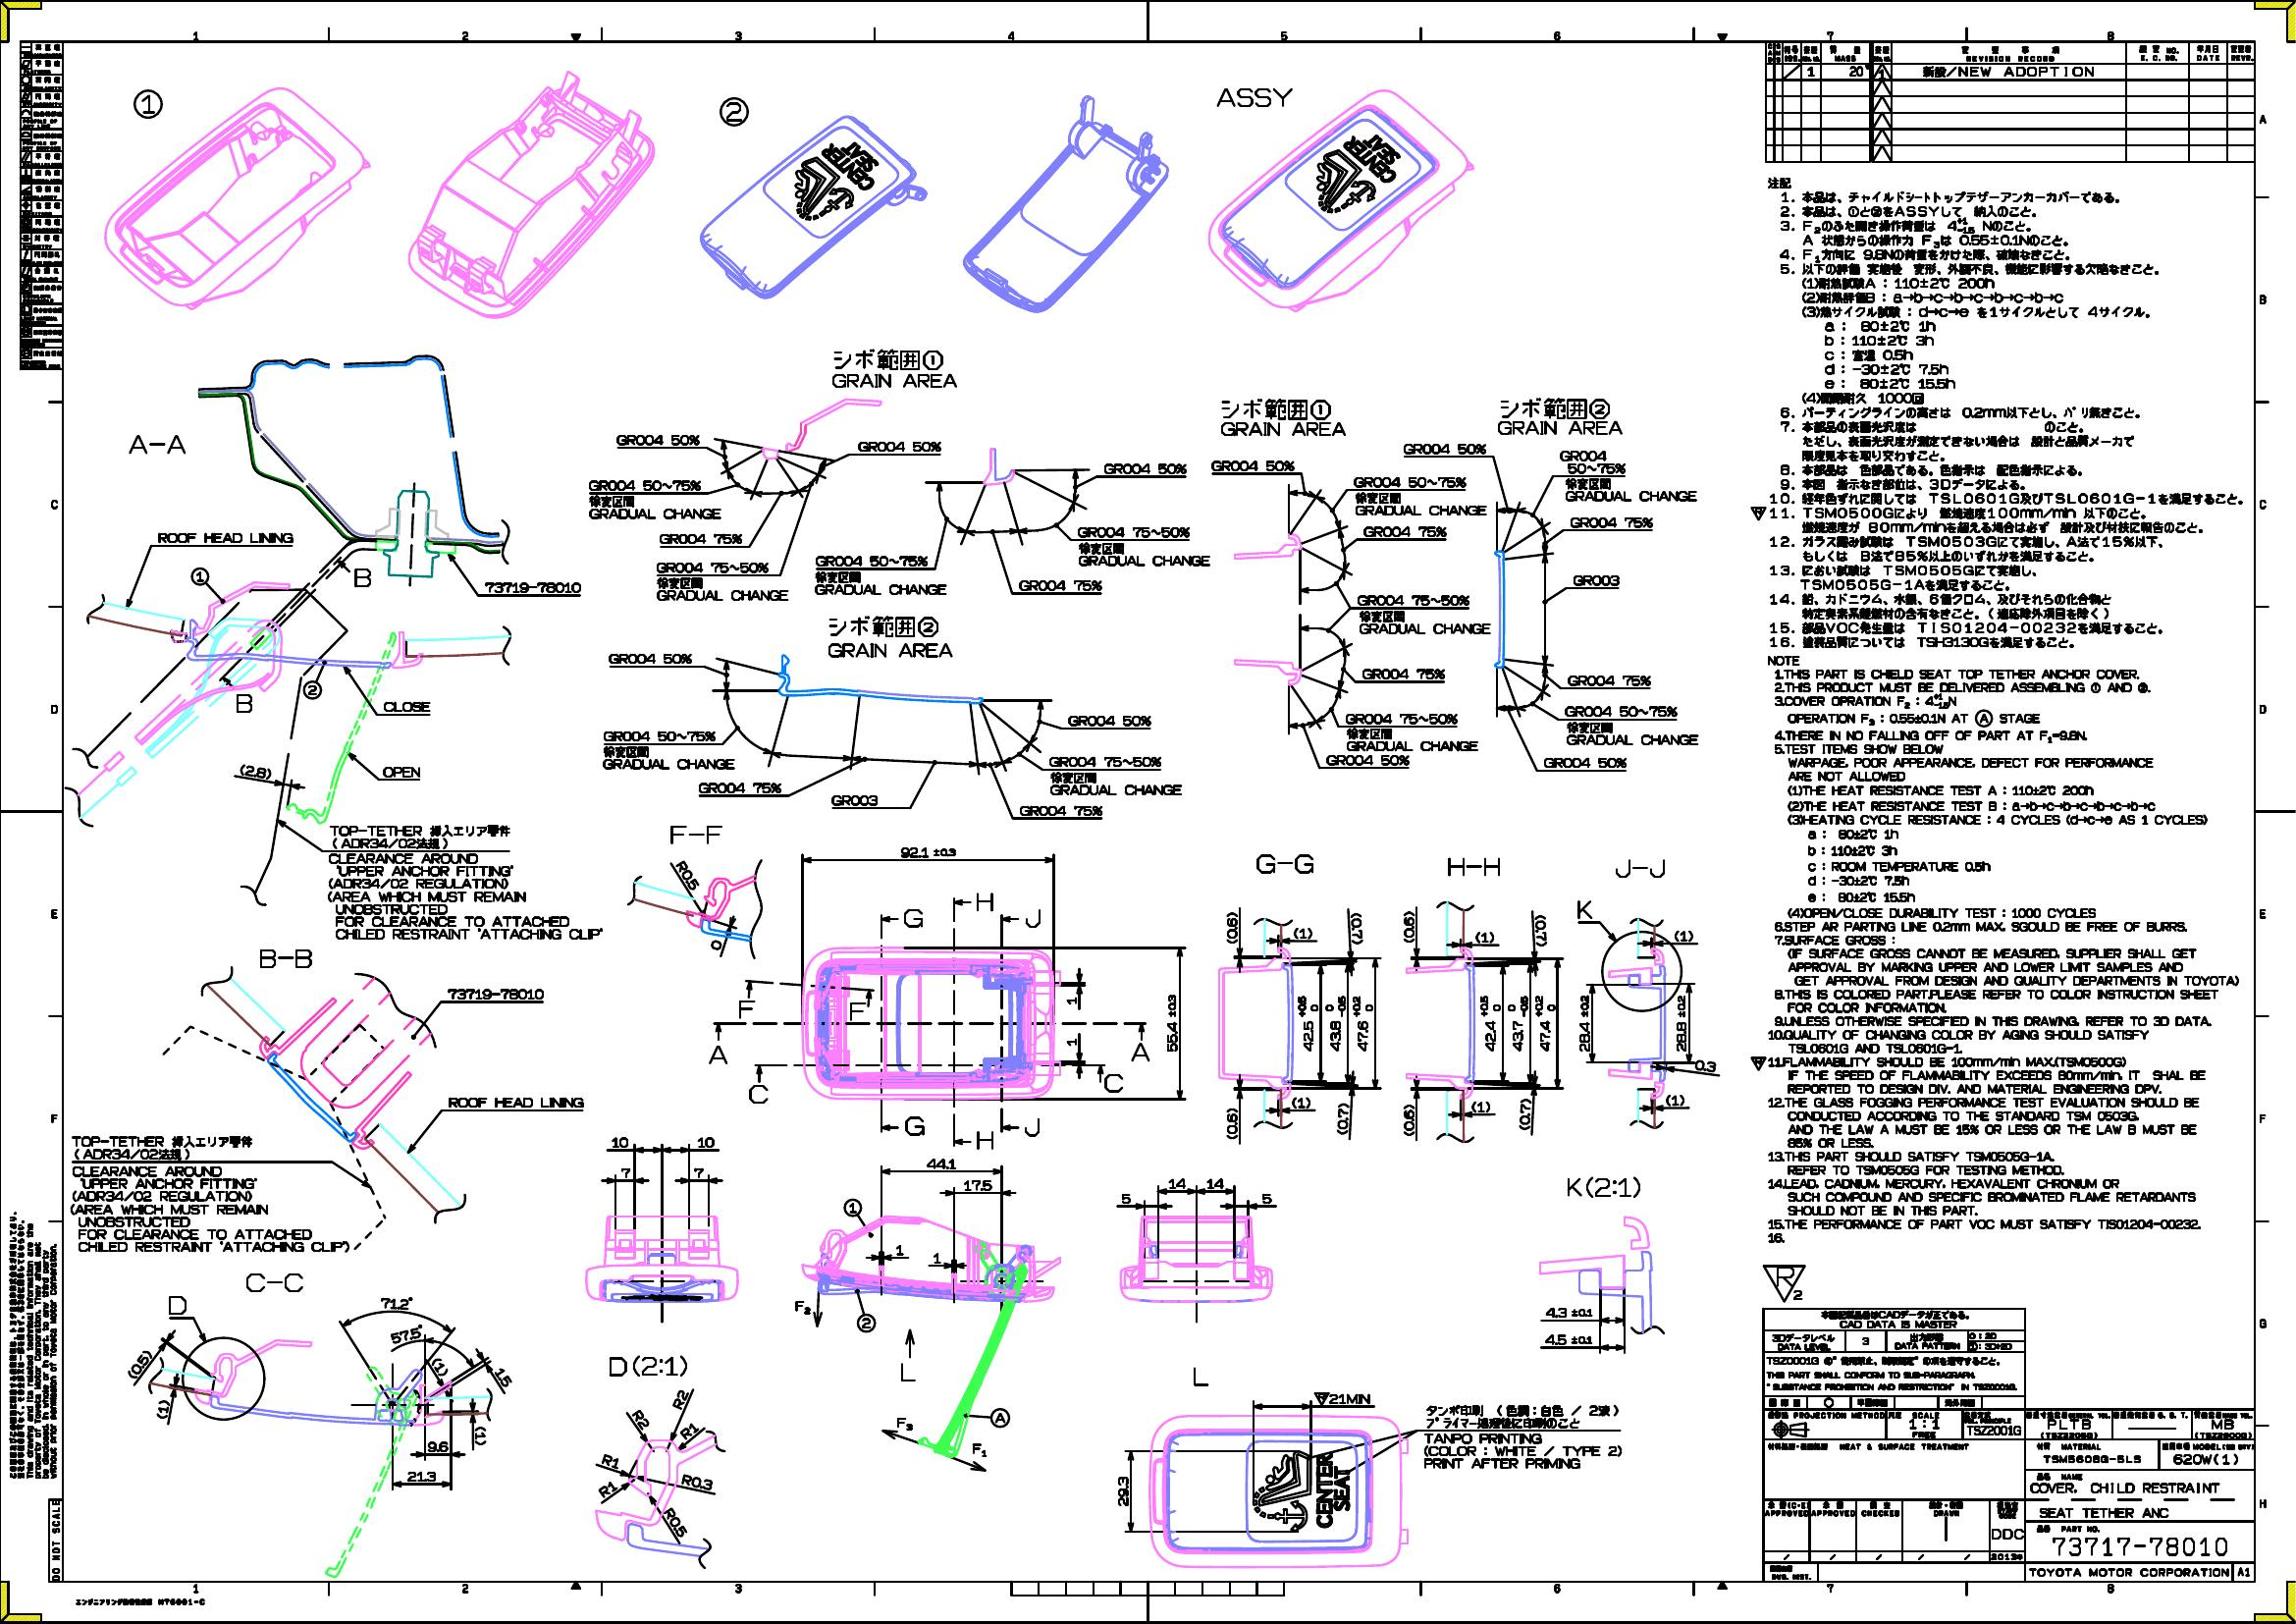anntotation_text: (1750, 176, 2247, 1304), (327, 823, 603, 942), (70, 1135, 350, 1253), (7, 1209, 58, 1480), (1423, 1404, 1621, 1469), (1558, 448, 1699, 504), (1351, 475, 1488, 517), (813, 554, 947, 596), (1356, 594, 1493, 634), (1077, 526, 1212, 566), (1563, 705, 1699, 745), (1497, 395, 1625, 438), (826, 615, 954, 657), (655, 561, 789, 601), (588, 480, 722, 520), (1049, 756, 1182, 796), (603, 729, 736, 770), (1344, 712, 1481, 750), (1219, 397, 1347, 438), (831, 348, 957, 388), (1565, 1176, 1641, 1199), (156, 531, 293, 543), (608, 1355, 687, 1376), (1216, 88, 1291, 107), (448, 1097, 583, 1107), (1256, 852, 1314, 874), (1209, 459, 1295, 473), (446, 988, 545, 1000), (1569, 515, 1653, 529), (128, 434, 186, 453), (246, 1272, 304, 1292), (669, 824, 722, 845), (1361, 526, 1449, 538), (1614, 858, 1665, 879), (1325, 754, 1411, 766), (1446, 856, 1500, 875), (1361, 668, 1446, 680), (615, 434, 699, 446), (1103, 462, 1188, 475), (1402, 443, 1486, 455), (1567, 673, 1651, 685), (608, 652, 692, 664), (483, 582, 581, 592), (260, 949, 313, 968), (132, 88, 163, 118), (1066, 715, 1152, 726), (718, 97, 748, 127), (857, 441, 942, 452), (1017, 580, 1101, 591), (1542, 758, 1627, 768), (1019, 805, 1103, 816), (697, 782, 782, 793), (659, 533, 741, 543), (1312, 1392, 1370, 1404), (1572, 575, 1620, 587), (831, 794, 878, 807), (383, 701, 430, 712), (381, 766, 420, 777), (708, 1044, 727, 1065), (1130, 1042, 1151, 1062), (1103, 1074, 1124, 1093), (975, 1128, 994, 1149), (748, 1084, 769, 1104), (856, 1313, 877, 1332), (989, 1408, 1010, 1427), (302, 680, 321, 700), (903, 909, 922, 928), (905, 1116, 924, 1135), (190, 566, 211, 584), (235, 692, 253, 714), (1191, 1366, 1209, 1387), (353, 568, 371, 587), (848, 1002, 866, 1021), (738, 1000, 755, 1019), (975, 891, 993, 910), (1576, 900, 1593, 919), (1022, 1118, 1040, 1137), (169, 1295, 186, 1315), (843, 1199, 863, 1216), (899, 1362, 915, 1381), (1024, 909, 1040, 926), (896, 1417, 913, 1432), (794, 1301, 812, 1315), (971, 1443, 987, 1457)
dimension_text: (1351, 995, 1374, 1051), (1296, 995, 1318, 1051), (1325, 995, 1346, 1051), (1479, 995, 1500, 1051), (1507, 995, 1528, 1051), (1534, 995, 1555, 1051), (1166, 993, 1179, 1051), (1578, 995, 1590, 1051), (899, 847, 956, 858), (1676, 995, 1686, 1051), (1544, 1334, 1592, 1345), (1546, 1308, 1592, 1318), (1534, 914, 1548, 947), (379, 1295, 413, 1309), (390, 1327, 423, 1341), (671, 868, 703, 882), (1224, 1107, 1238, 1139), (1349, 912, 1363, 944), (1226, 910, 1238, 944), (1518, 1097, 1530, 1130), (123, 1359, 156, 1371), (1337, 1102, 1349, 1134), (661, 1517, 690, 1529), (963, 1179, 993, 1192), (1117, 1476, 1130, 1506), (239, 766, 272, 777), (680, 1476, 713, 1487), (1404, 910, 1414, 942), (1404, 1104, 1414, 1135), (406, 1471, 436, 1482), (926, 1158, 956, 1169), (1693, 1060, 1716, 1072), (1291, 1097, 1312, 1109), (1293, 926, 1312, 939), (1470, 1100, 1490, 1113), (1674, 930, 1693, 942), (1665, 1093, 1685, 1106), (153, 1403, 172, 1415), (494, 1371, 513, 1383), (474, 1425, 487, 1445), (631, 1413, 650, 1425), (601, 1455, 620, 1468), (1205, 1178, 1224, 1190), (427, 1441, 448, 1452), (669, 1394, 690, 1404), (697, 1135, 715, 1148), (430, 1360, 448, 1373), (1168, 1178, 1186, 1190), (1474, 932, 1493, 942), (597, 1483, 617, 1494), (611, 1135, 629, 1146), (680, 1425, 697, 1436), (620, 1167, 631, 1178), (694, 1167, 704, 1178), (1121, 1193, 1131, 1204), (1261, 1193, 1272, 1204), (710, 940, 722, 949), (896, 1244, 905, 1257), (933, 1251, 942, 1264), (1066, 1037, 1077, 1046), (1066, 997, 1077, 1004)
object: (63, 353, 513, 905), (148, 1336, 492, 1578), (799, 1214, 1063, 1459), (408, 69, 655, 320), (206, 972, 462, 1211), (1207, 88, 1476, 313), (104, 86, 371, 309), (963, 95, 1170, 313), (697, 114, 928, 299), (1147, 1413, 1409, 1568), (801, 946, 1061, 1100), (761, 397, 1015, 487), (1404, 900, 1476, 1142), (1217, 917, 1293, 1128), (594, 1434, 717, 1557), (1117, 1214, 1274, 1302), (1600, 917, 1665, 1128), (585, 1214, 740, 1302), (1539, 1216, 1653, 1334), (778, 654, 984, 705), (632, 874, 757, 942), (1233, 657, 1302, 685), (1233, 533, 1302, 559), (1493, 550, 1505, 668)
title_block: (1764, 1308, 2256, 1582), (1765, 40, 2256, 162), (19, 40, 63, 369)
